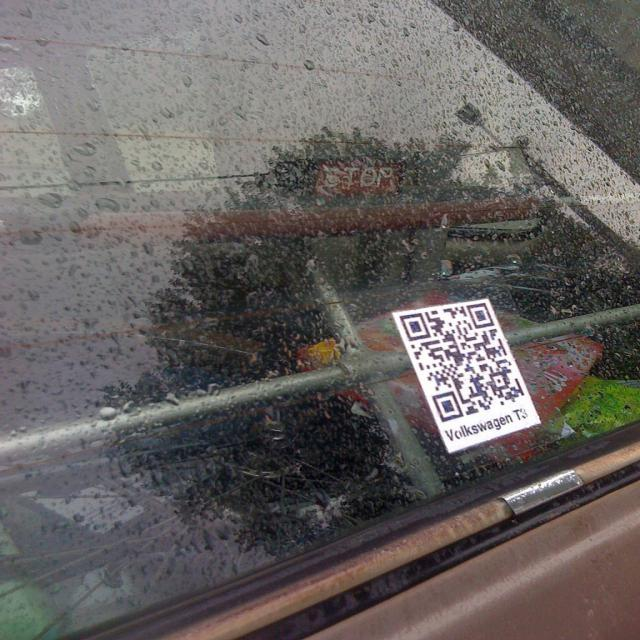qrcode: (400, 304, 527, 424)
